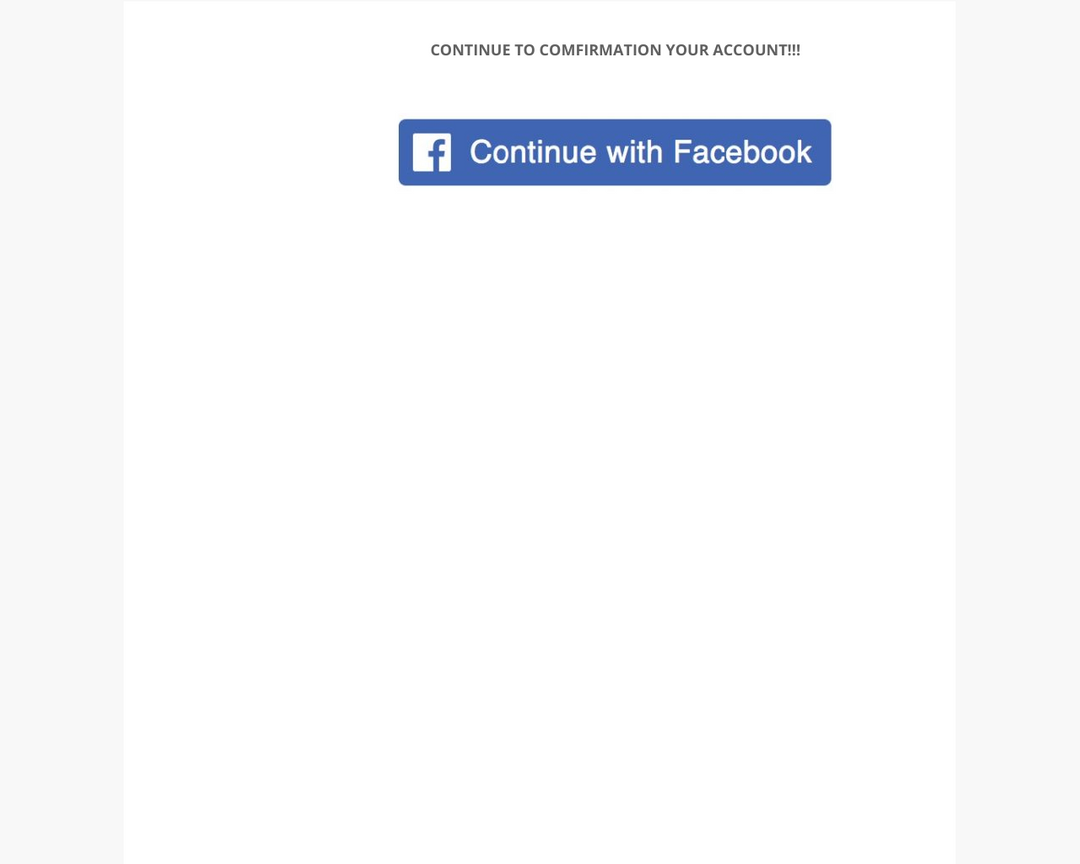Facebook: (674, 133, 815, 169), (407, 132, 455, 174)
